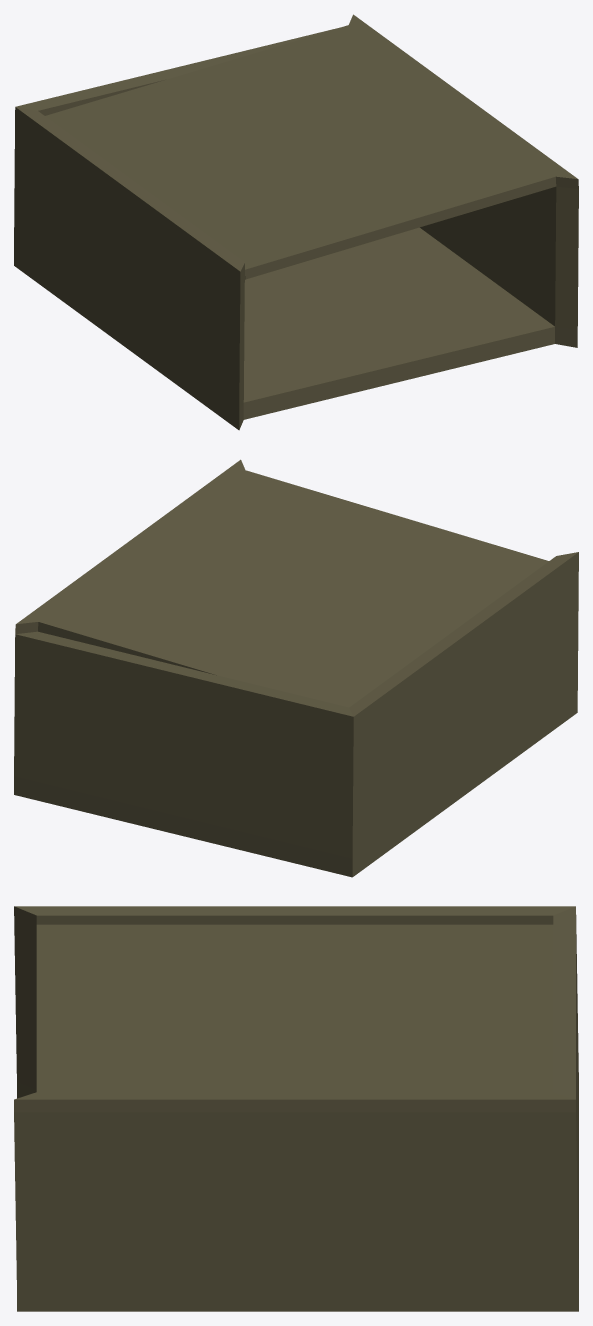
Rendered from BoilerRoom.fbx.
3 views of the same model, one above another, from view 1: azimuth 30°, elevation 25°; view 2: azimuth 150°, elevation 25°; view 3: azimuth 270°, elevation 25° (orthographic). The views are drawn at different scales.
Visible parts, largest first — view 1: Cube; view 2: Cube; view 3: Cube.
Boxes of the visible parts, x1,y1,x2,y2 form: Cube: [14, 14, 578, 430]; Cube: [14, 459, 578, 877]; Cube: [14, 906, 578, 1311].
Bounding box in the file's own units: 1798 × 862 × 2083.
